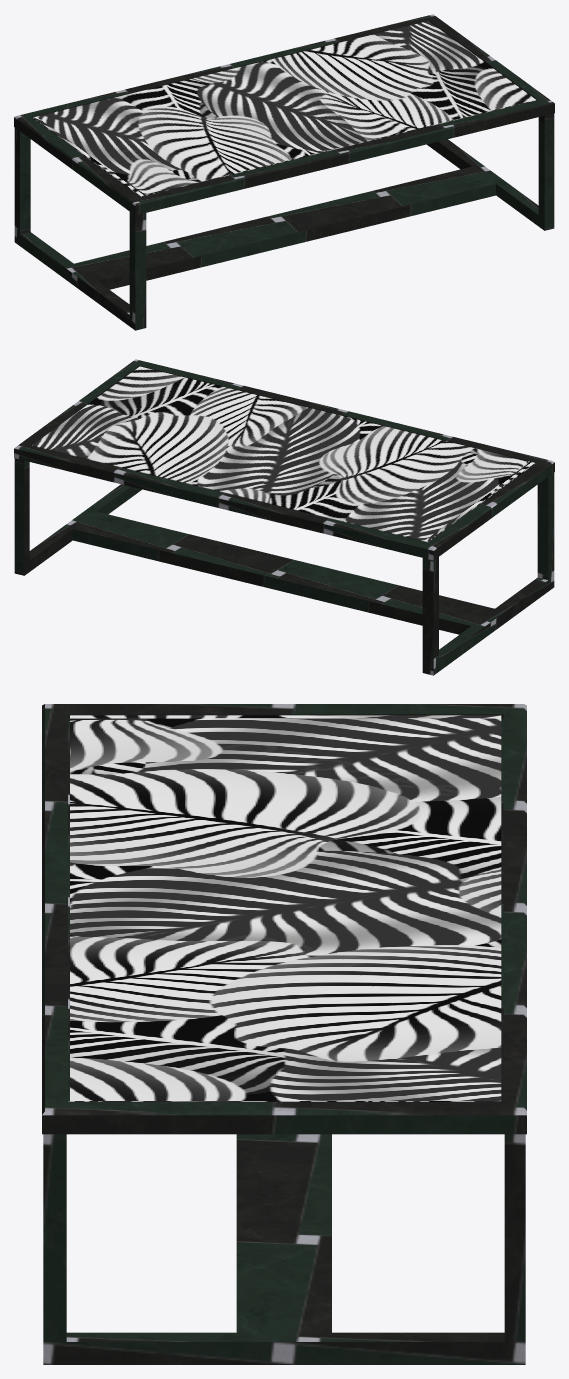
File: table.fbx
3 views of the same model, one above another, from view 1: azimuth 30°, elevation 25°; view 2: azimuth 150°, elevation 25°; view 3: azimuth 270°, elevation 25° (orthographic). The views are drawn at different scales.
Visible parts, largest first — view 1: Cube; view 2: Cube; view 3: Cube.
Boxes of the visible parts, x1,y1,x2,y2 form: Cube: [14, 14, 554, 330]; Cube: [14, 359, 554, 675]; Cube: [42, 704, 526, 1364].
Size of the model in its own units: 400 by 115 by 200.
